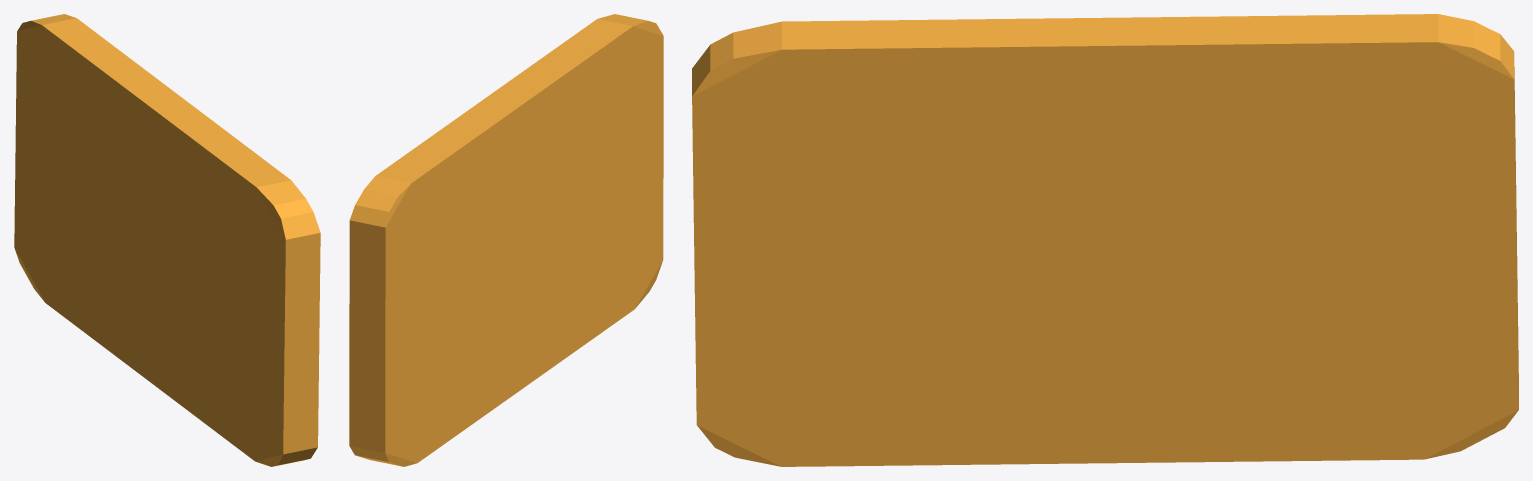
Rendered from gomb.fbx.
3 views of the same model, side by side, from view 1: azimuth 30°, elevation 25°; view 2: azimuth 150°, elevation 25°; view 3: azimuth 270°, elevation 25° (orthographic). The views are drawn at different scales.
Parts seen in each view (by area): view 1: Cube; view 2: Cube; view 3: Cube.
Boxes of the visible parts, x1=… form: Cube: x1=14, y1=14, x2=320, y2=466; Cube: x1=349, y1=14, x2=663, y2=466; Cube: x1=692, y1=14, x2=1518, y2=466.
Bounding box in the file's own units: 63.78 × 469 × 821.
